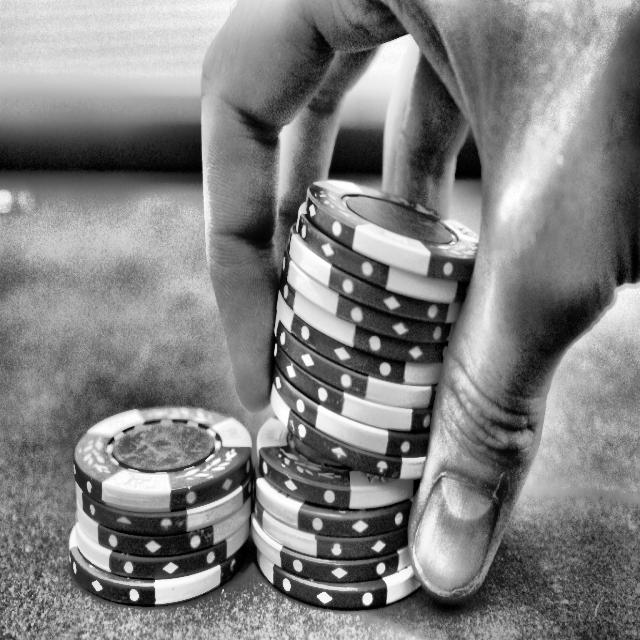Chip: (245, 147, 487, 604), (62, 390, 257, 608)
